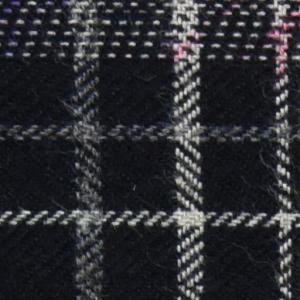Stain: (155, 1, 300, 90), (1, 1, 84, 66)
